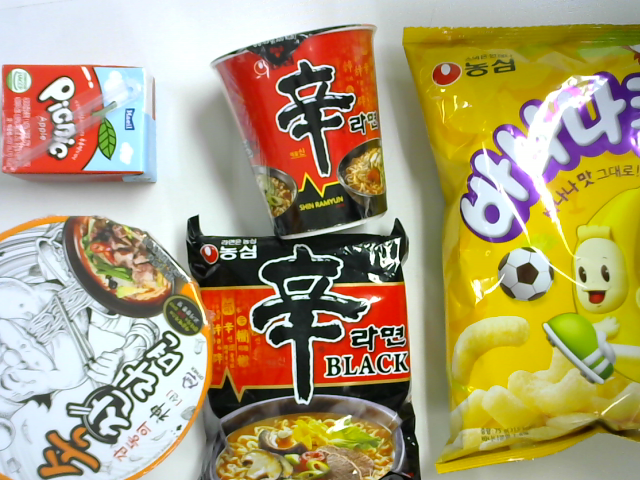Banana_Kick: (399, 26, 640, 471)
Hejangchan: (1, 218, 215, 480)
Picnic_Apple: (1, 62, 163, 194)
Sinramen_Black: (181, 212, 422, 480)
Sinramen_small: (211, 22, 395, 240)
